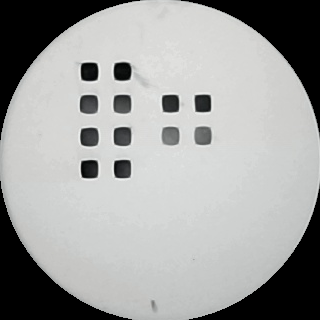检查点: (191, 125, 217, 147), (111, 91, 134, 115), (191, 92, 214, 116), (111, 124, 134, 148), (111, 60, 133, 84), (77, 93, 101, 115), (160, 92, 182, 115), (77, 158, 100, 180), (111, 158, 134, 180), (78, 128, 101, 148), (80, 62, 101, 83), (160, 125, 181, 146)
